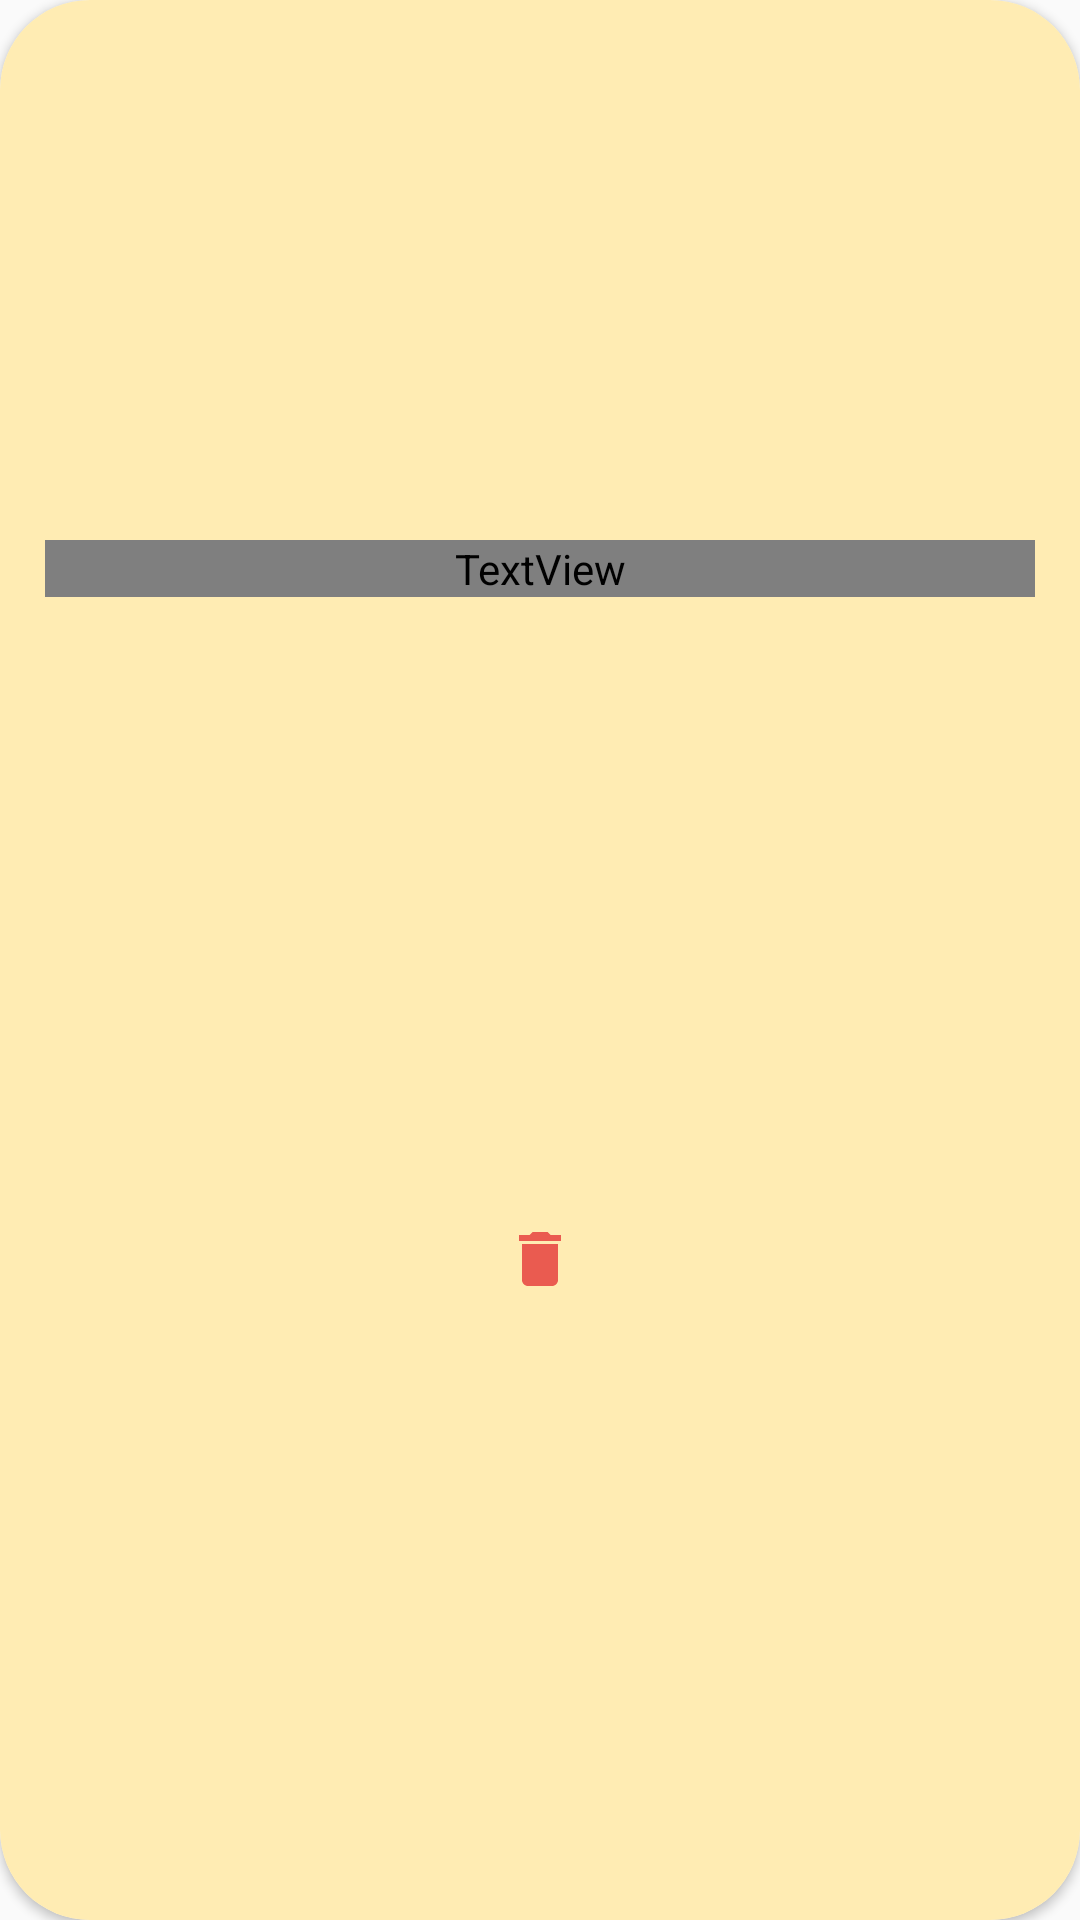

Named icons in this screenshot (1080px x 1920px) and their centers, [x,y]:
delete: [540,1259]
